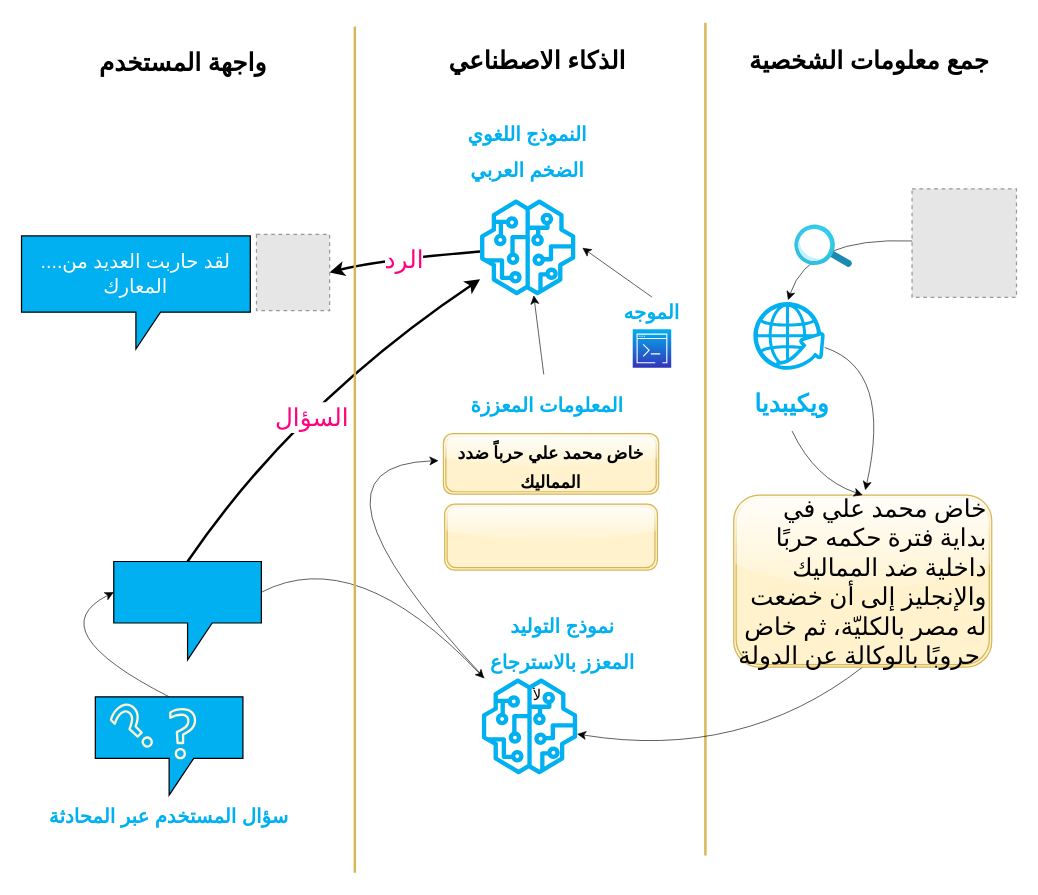
The diagram is 1038 pixels wide and 895 high, and some of its shapes have lost their labels. Grey dashed boxes stand in for pictures. Each missing label, with the centre of its shape:
"حارب محمد على للدولة العثمانية" belongs at (x=550, y=536).
"ما الحروب التي خضتها؟" belongs at (x=187, y=610).
